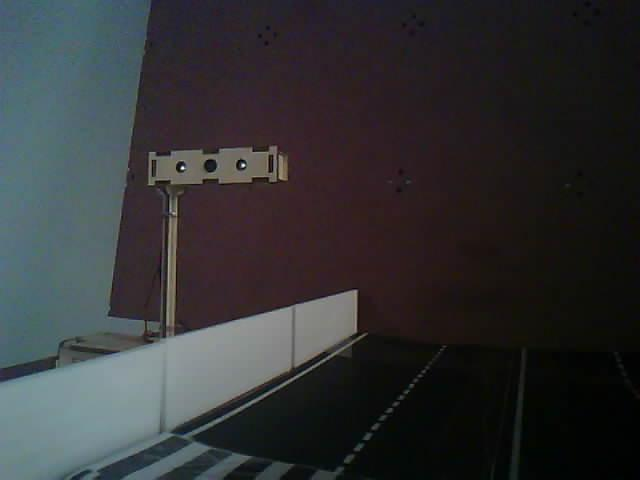crosswalk: (39, 408, 442, 480)
no: (126, 124, 303, 362)
